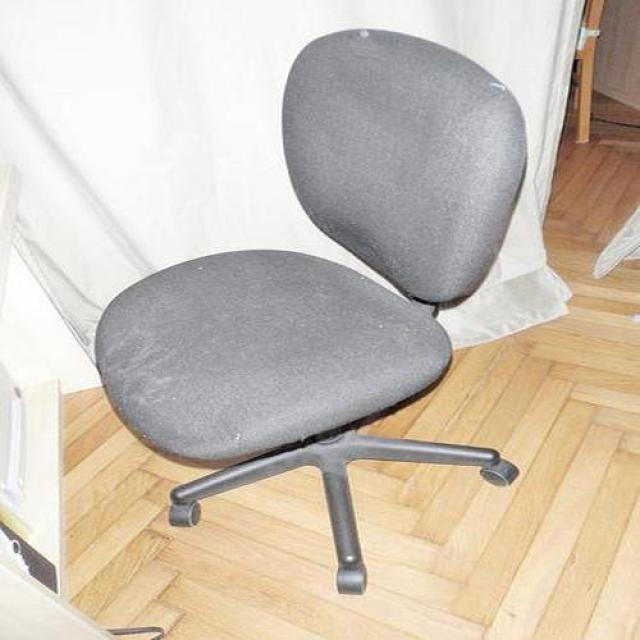swivelchair: (92, 28, 529, 599)
